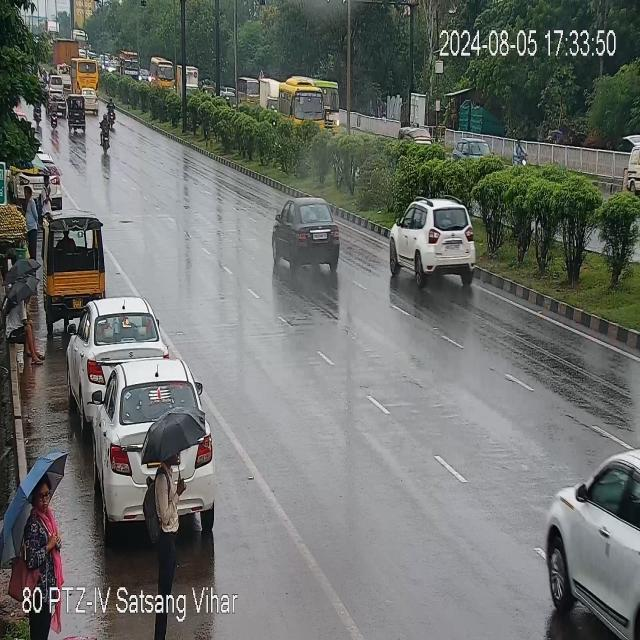2-wheelers: (92, 110, 118, 152), (44, 91, 64, 130), (102, 100, 123, 128)
auto: (45, 214, 108, 318), (398, 121, 433, 152), (63, 95, 87, 137), (148, 56, 176, 85)
bus: (278, 84, 320, 124), (71, 58, 101, 98), (323, 82, 345, 128), (238, 76, 260, 104)
car: (94, 377, 226, 524), (546, 458, 636, 640), (68, 299, 166, 399), (392, 197, 482, 280), (272, 199, 340, 271), (456, 138, 494, 166)
pedestrian: (146, 440, 191, 581), (20, 472, 64, 590), (7, 299, 45, 364)
truck: (22, 187, 40, 253), (54, 37, 78, 65), (120, 52, 141, 82), (259, 79, 278, 108)
